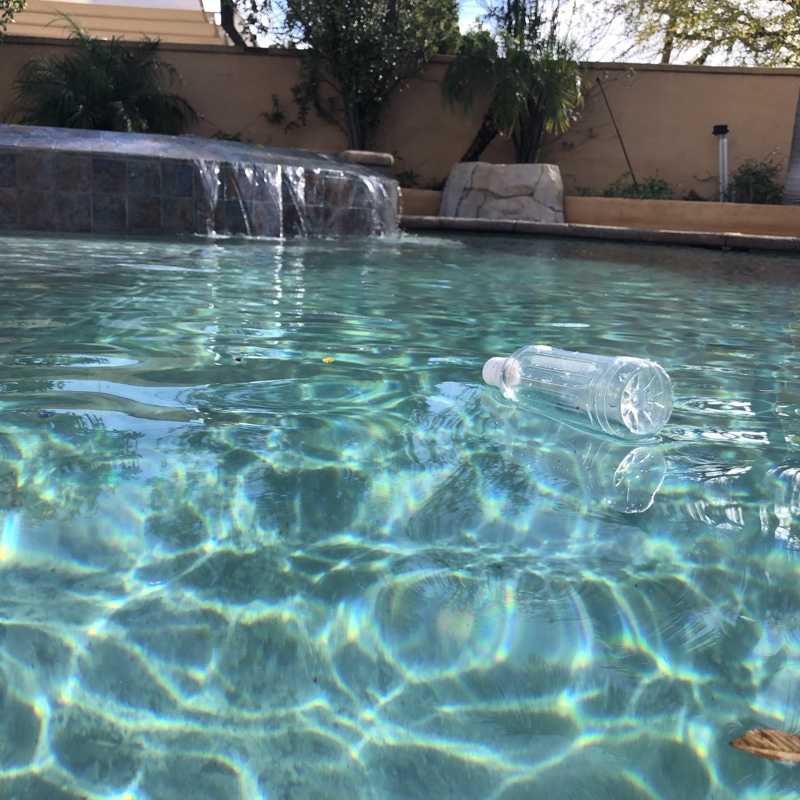Plastic Bottle: (475, 342, 675, 445)
